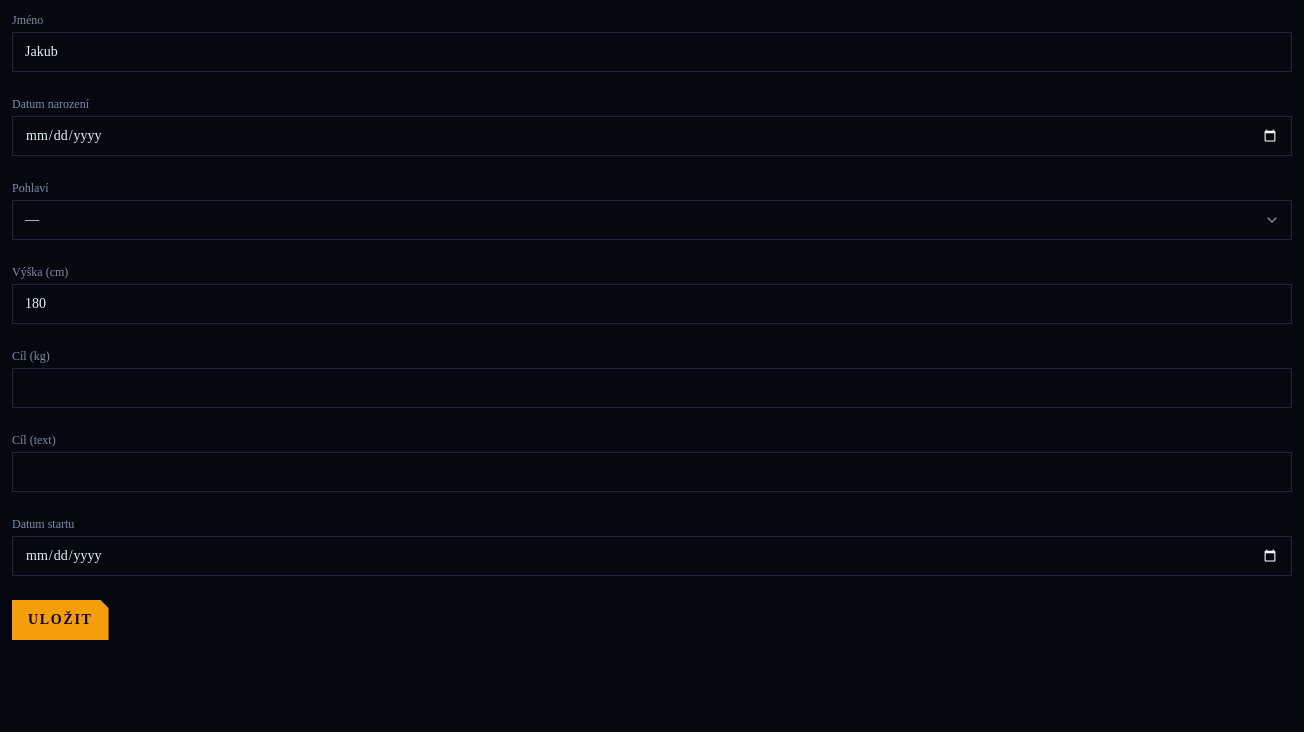
Test: ProfileFormClient › shows server validation error
Click the button "Uložit".
click(60, 620)  # box [12, 600, 108, 640]
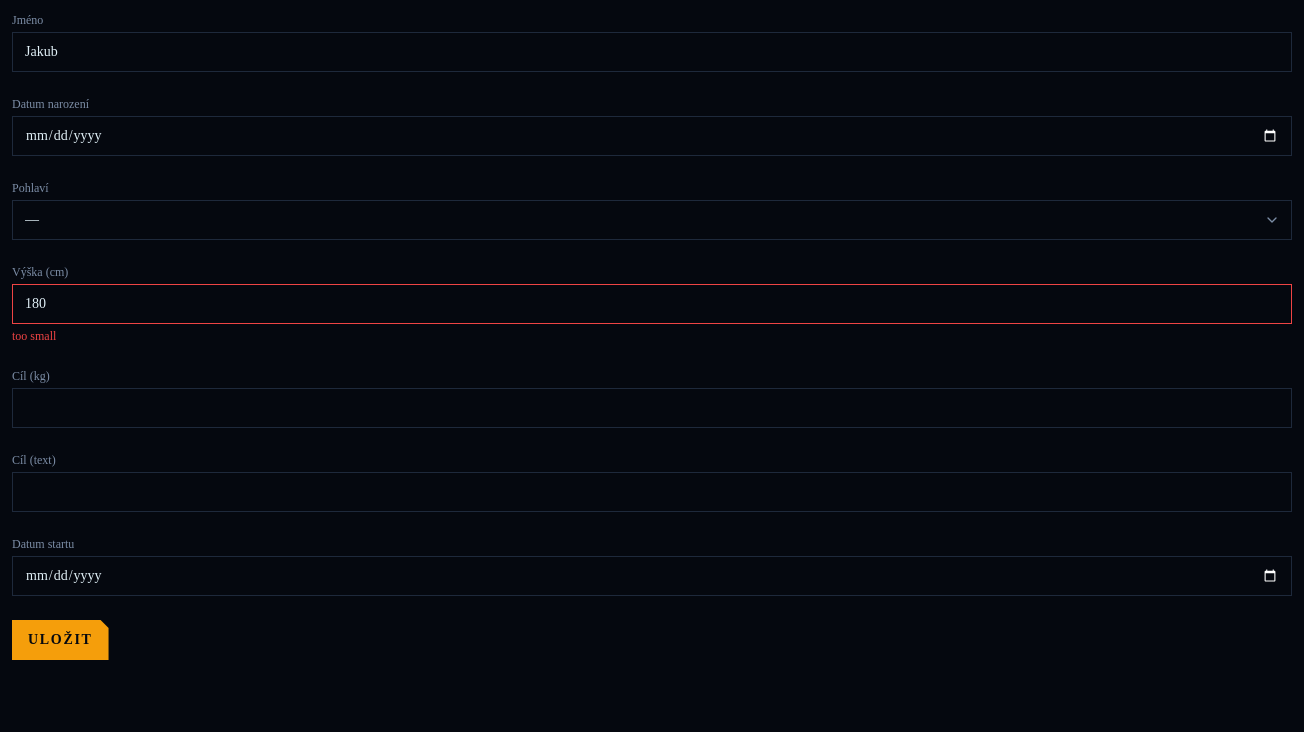
Now the text "too small" is shown, box [12, 329, 56, 343]
